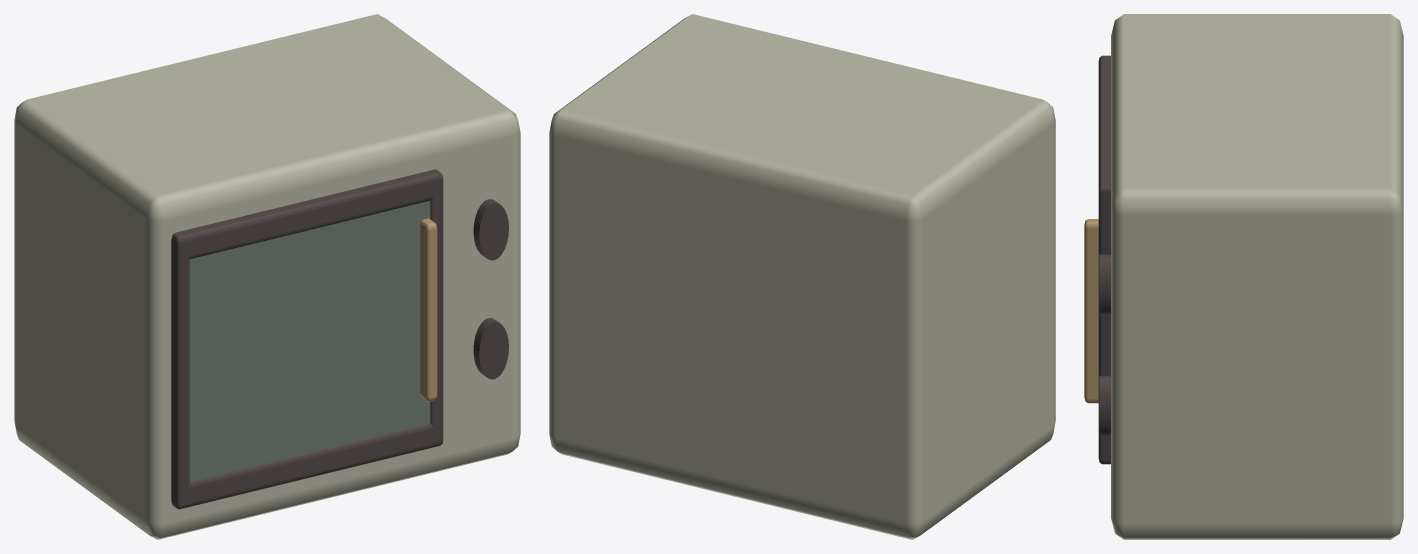
Rendered from microwave.glb.
3 renders of one model, left to right at view 1: azimuth 30°, elevation 25°; view 2: azimuth 150°, elevation 25°; view 3: azimuth 270°, elevation 25°, orthographic.
Parts seen in each view (by area): view 1: microwave-case, microwave-door-inset, microwave-door-rail-1, microwave-door-rail--1, microwave-door-stile--1, door-handle, microwave-door-stile-1, dial-0-1, dial-0-2; view 2: microwave-case; view 3: microwave-case, door-handle, microwave-door-stile-1, microwave-door-rail-1, dial-0-1, dial-0-2.
Part boxes in pixels (x1=…): microwave-case: x1=14, y1=14, x2=520, y2=539; microwave-door-inset: x1=189, y1=201, x2=430, y2=481; microwave-door-rail-1: x1=171, y1=169, x2=442, y2=259; microwave-door-rail--1: x1=171, y1=423, x2=443, y2=508; microwave-door-stile--1: x1=171, y1=231, x2=189, y2=509; door-handle: x1=420, y1=218, x2=437, y2=401; microwave-door-stile-1: x1=430, y1=169, x2=443, y2=446; dial-0-1: x1=473, y1=318, x2=508, y2=379; dial-0-2: x1=473, y1=199, x2=508, y2=260; microwave-case: x1=549, y1=14, x2=1055, y2=539; microwave-case: x1=1111, y1=14, x2=1403, y2=539; door-handle: x1=1084, y1=219, x2=1098, y2=403; microwave-door-stile-1: x1=1098, y1=181, x2=1110, y2=464; microwave-door-rail-1: x1=1098, y1=55, x2=1110, y2=207; dial-0-1: x1=1099, y1=375, x2=1110, y2=435; dial-0-2: x1=1099, y1=254, x2=1110, y2=314.
Size of the model in its own units: 0.6 by 0.5303 by 0.4365.
